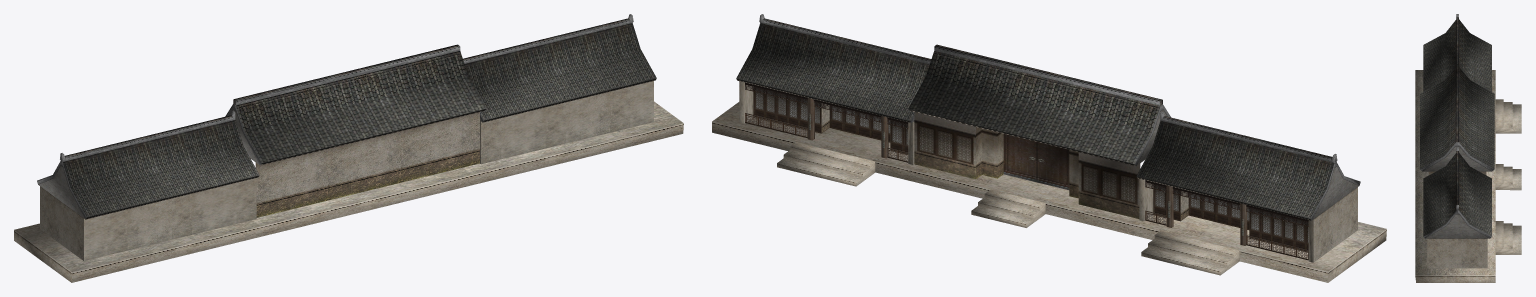
Rendered from cj_rich4_buil05.glb.
3 renders of one model, left to right at view 1: azimuth 30°, elevation 25°; view 2: azimuth 150°, elevation 25°; view 3: azimuth 270°, elevation 25°, orthographic. The views are drawn at different scales.
Parts seen in each view (by area): view 1: CJ_rich04_buil05_roof, CJ_rich04_buil05_floor, CJ_rich04_buil05_wall01; view 2: CJ_rich04_buil05_roof, CJ_rich04_buil05_floor, CJ_rich04_buil05_wall02, CJ_rich04_buil05_wall01, CJ_rich04_buil05_wall01_al; view 3: CJ_rich04_buil05_roof, CJ_rich04_buil05_floor.
Boxes of the visible parts, <box> form: CJ_rich04_buil05_roof: <box>37,14,656,219</box>; CJ_rich04_buil05_floor: <box>14,81,683,282</box>; CJ_rich04_buil05_wall01: <box>255,112,479,217</box>; CJ_rich04_buil05_roof: <box>736,14,1360,220</box>; CJ_rich04_buil05_floor: <box>712,81,1386,282</box>; CJ_rich04_buil05_wall02: <box>914,112,1140,218</box>; CJ_rich04_buil05_wall01: <box>753,87,1308,251</box>; CJ_rich04_buil05_wall01_al: <box>745,82,1308,260</box>; CJ_rich04_buil05_roof: <box>1420,14,1494,238</box>; CJ_rich04_buil05_floor: <box>1415,70,1521,282</box>.
Size of the model in its own units: 46.97 by 8.35 by 10.3.
Materials: 5 (5 with a texture image).
